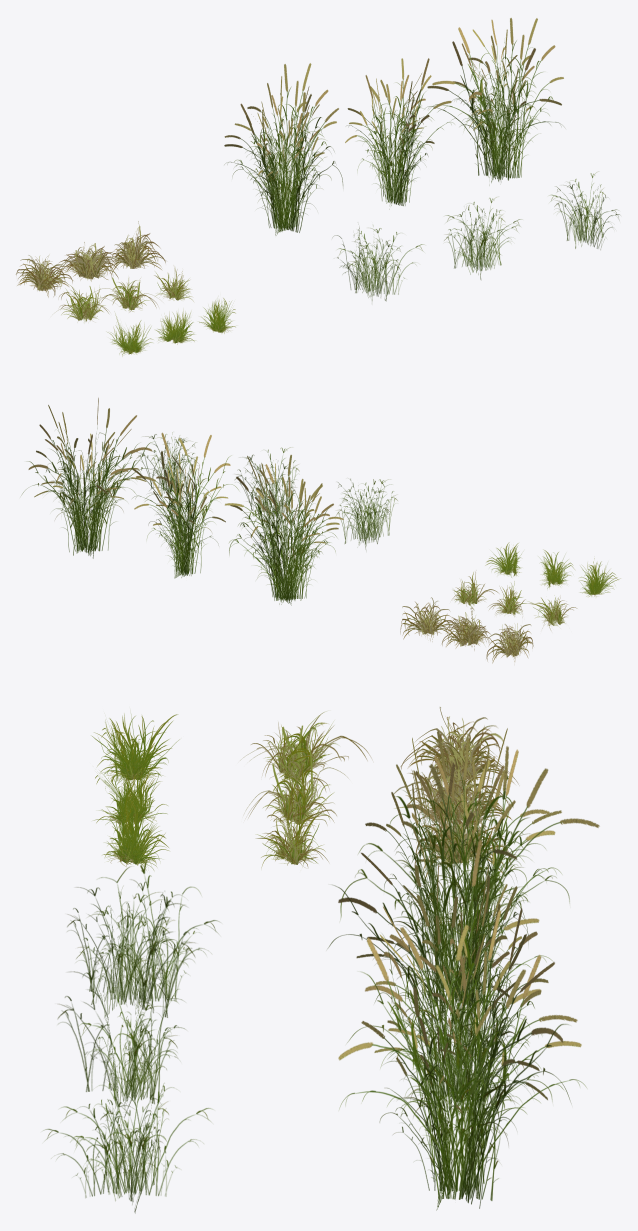
The model's file is grassPack.glb.
3 views of the same model, one above another, from view 1: azimuth 30°, elevation 25°; view 2: azimuth 150°, elevation 25°; view 3: azimuth 270°, elevation 25° (orthographic). The views are drawn at different scales.
Parts seen in each view (by area): view 1: Grass tall high.002, Grass tall high, Grass tall high.001, Grass tall low, Grass tall low.001, Grass tall low.002, Grass main dry.001, Grass main dry.002, Grass main dry, Grass main aged, Grass main aged.001, Grass main fresh.001 (+3 smaller); view 2: Grass tall high, Grass tall high.002, Grass tall high.001, Grass tall low, Grass tall low.001, Grass tall low.002, Grass main dry.002, Grass main dry.001, Grass main dry, Grass main fresh, Grass main fresh.001, Grass main fresh.002 (+3 smaller); view 3: Grass tall high.002, Grass tall high, Grass tall high.001, Grass tall low, Grass tall low.002, Grass tall low.001, Grass main dry, Grass main fresh, Grass main aged, Grass main aged.001, Grass main dry.001, Grass main dry.002 (+3 smaller).
Boxes of the visible parts, x1,y1,x2,y2 form: Grass tall high.002: (425, 18, 563, 182); Grass tall high: (224, 63, 343, 235); Grass tall high.001: (345, 58, 452, 205); Grass tall low: (333, 227, 423, 301); Grass tall low.001: (444, 197, 520, 279); Grass tall low.002: (550, 172, 619, 249); Grass main dry.001: (57, 242, 118, 281); Grass main dry.002: (110, 221, 165, 273); Grass main dry: (16, 255, 73, 297); Grass main aged: (56, 285, 110, 321); Grass main aged.001: (94, 277, 157, 312); Grass main fresh.001: (156, 311, 194, 344); Grass tall high: (225, 454, 343, 605); Grass tall high.002: (21, 398, 159, 558); Grass tall high.001: (132, 432, 238, 578); Grass tall low: (336, 479, 397, 548); Grass tall low.001: (235, 447, 299, 523); Grass tall low.002: (136, 432, 198, 497); Grass main dry.002: (400, 597, 457, 641); Grass main dry.001: (441, 607, 492, 650); Grass main dry: (486, 623, 533, 663); Grass main fresh: (580, 558, 620, 596); Grass main fresh.001: (540, 550, 574, 588); Grass main fresh.002: (485, 542, 521, 577); Grass tall high.002: (338, 906, 586, 1210); Grass tall high: (340, 728, 599, 1011); Grass tall high.001: (327, 839, 552, 1110); Grass tall low: (67, 860, 218, 1017); Grass tall low.002: (43, 1073, 212, 1213); Grass tall low.001: (58, 970, 185, 1117); Grass main dry: (400, 707, 518, 787); Grass main fresh: (92, 714, 179, 785); Grass main aged: (240, 711, 371, 785); Grass main aged.001: (244, 746, 347, 827); Grass main dry.001: (394, 756, 511, 833); Grass main dry.002: (414, 793, 510, 877).
Bounding box in the file's own units: 3.64 × 1.02 × 1.74.
Materials: 2 (2 with a texture image).
